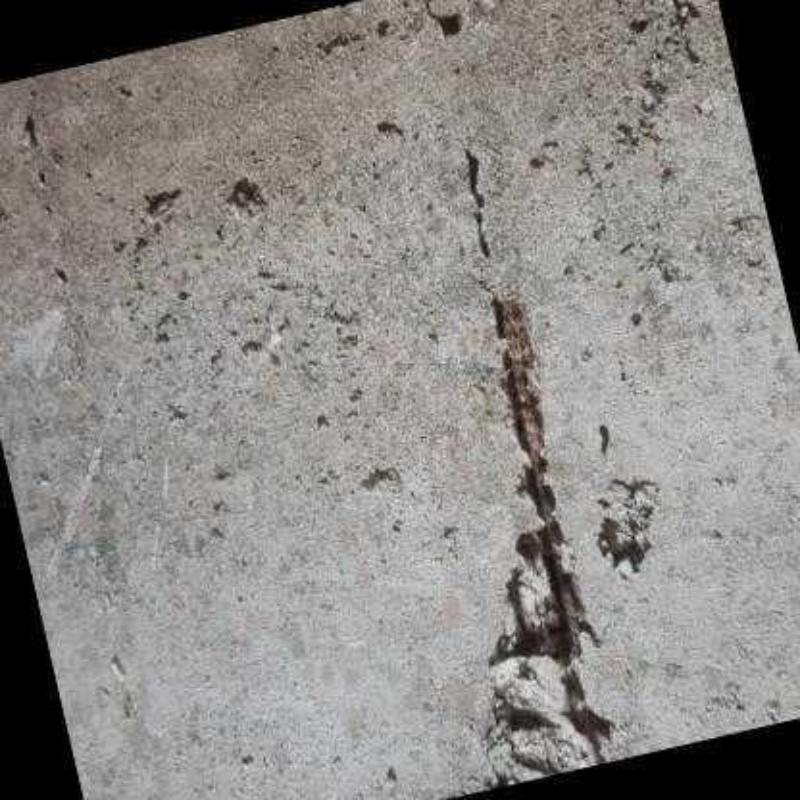crack: (486, 284, 576, 664)
